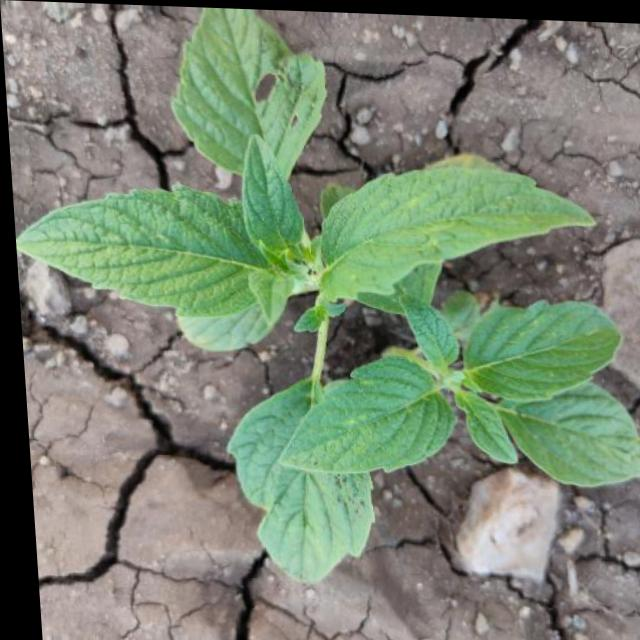crop: (3, 9, 640, 566)
